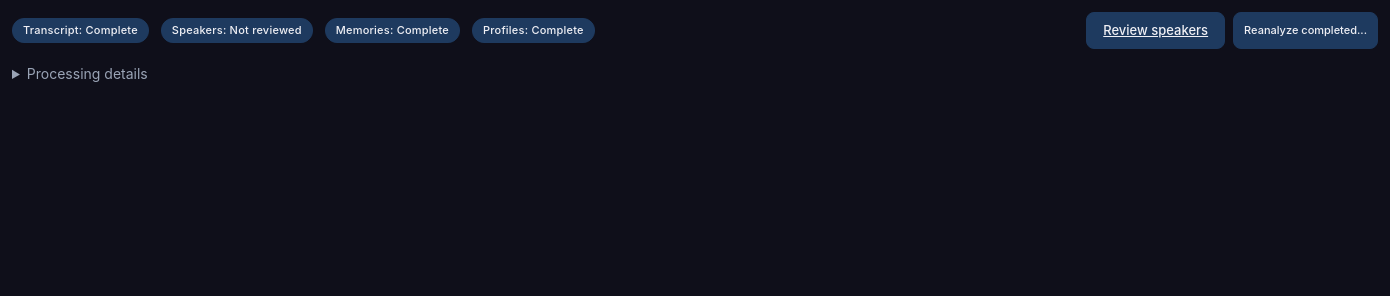
Scenario: offers explicit speaker review for a legacy meeting while preserving completed workflows
Click the heading "Processing details".
click(87, 73)  # box x1=27 y1=65 x2=148 y2=82
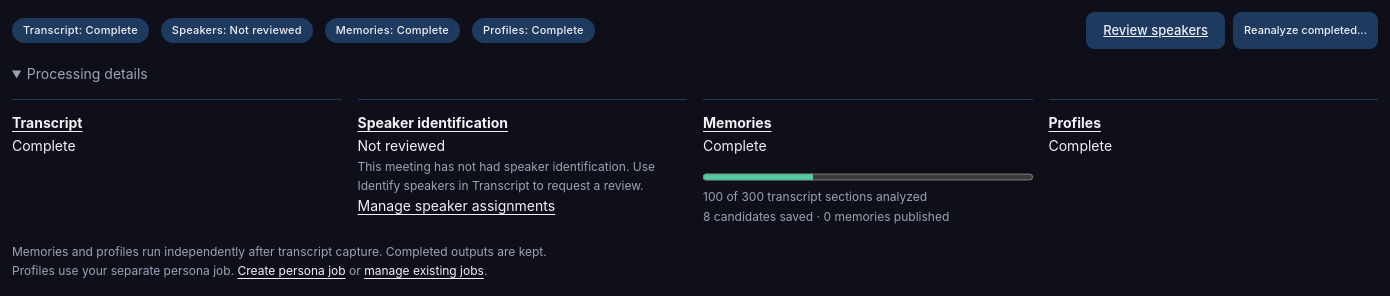
Expected: the text "This meeting has not had speaker identification" is shown, x1=358 y1=159 x2=655 y2=193
